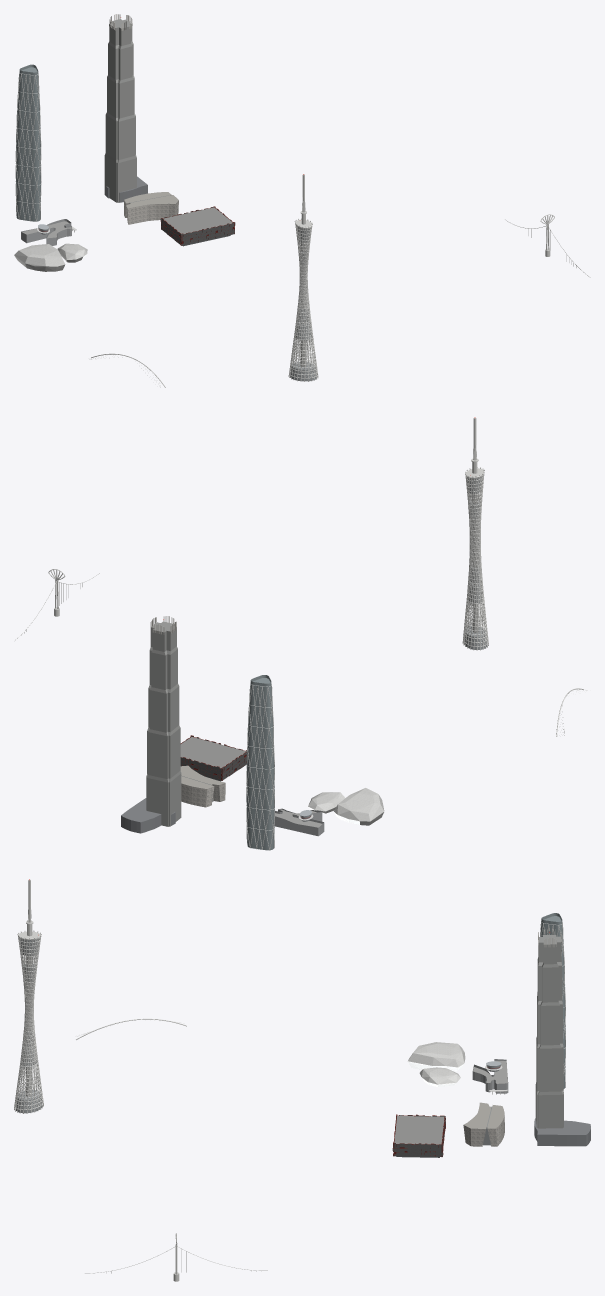
The model's file is landmarks.glb.
The picture shows the model from 3 angles, top to bottom: view 1: azimuth 30°, elevation 25°; view 2: azimuth 150°, elevation 25°; view 3: azimuth 270°, elevation 25°; orthographic projection. The views are drawn at different scales.
Parts seen in each view (by area): view 1: Landmark | East Tower (CTF), Landmark | West Tower (IFC) glass, Landmark | Canton Tower lattice + mast, Landmark | Guangdong Museum treasure box, Landmark | West Tower (IFC) diagrid, Landmark | Guangzhou Library wings, Landmark | Opera House grand theatre, Landmark | Canton Tower enclosed zones, Landmark | Children's Palace body; view 2: Landmark | East Tower (CTF), Landmark | West Tower (IFC) glass, Landmark | Canton Tower lattice + mast, Landmark | Guangdong Museum treasure box, Landmark | West Tower (IFC) diagrid, Landmark | Opera House grand theatre, Landmark | Guangzhou Library wings, Landmark | East Tower podium (K11), Landmark | Children's Palace body, Landmark | Canton Tower enclosed zones, Landmark | Opera House multi-function hall; view 3: Landmark | East Tower (CTF), Landmark | Canton Tower lattice + mast, Landmark | Guangdong Museum treasure box, Landmark | Guangzhou Library wings, Landmark | Opera House grand theatre, Landmark | East Tower podium (K11), Landmark | Canton Tower enclosed zones, Landmark | West Tower (IFC) glass, Landmark | Children's Palace body, Landmark | Opera House multi-function hall.
Part boxes in pixels (x1=…): Landmark | East Tower (CTF): x1=104, y1=19, x2=136, y2=202; Landmark | West Tower (IFC) glass: x1=16, y1=64, x2=40, y2=221; Landmark | Canton Tower lattice + mast: x1=288, y1=174, x2=318, y2=381; Landmark | Guangdong Museum treasure box: x1=160, y1=206, x2=235, y2=245; Landmark | West Tower (IFC) diagrid: x1=15, y1=71, x2=41, y2=221; Landmark | Guangzhou Library wings: x1=124, y1=192, x2=178, y2=224; Landmark | Opera House grand theatre: x1=14, y1=244, x2=65, y2=271; Landmark | Canton Tower enclosed zones: x1=290, y1=227, x2=316, y2=381; Landmark | Children's Palace body: x1=21, y1=219, x2=71, y2=245; Landmark | East Tower (CTF): x1=146, y1=621, x2=181, y2=826; Landmark | West Tower (IFC) glass: x1=246, y1=675, x2=274, y2=850; Landmark | Canton Tower lattice + mast: x1=462, y1=417, x2=488, y2=650; Landmark | Guangdong Museum treasure box: x1=180, y1=735, x2=246, y2=780; Landmark | West Tower (IFC) diagrid: x1=246, y1=683, x2=274, y2=850; Landmark | Opera House grand theatre: x1=334, y1=788, x2=384, y2=825; Landmark | Guangzhou Library wings: x1=180, y1=765, x2=225, y2=807; Landmark | East Tower podium (K11): x1=121, y1=798, x2=175, y2=833; Landmark | Children's Palace body: x1=274, y1=808, x2=324, y2=836; Landmark | Canton Tower enclosed zones: x1=464, y1=476, x2=486, y2=649; Landmark | Opera House multi-function hall: x1=308, y1=792, x2=345, y2=813; Landmark | East Tower (CTF): x1=535, y1=935, x2=563, y2=1128; Landmark | Canton Tower lattice + mast: x1=14, y1=879, x2=43, y2=1113; Landmark | Guangdong Museum treasure box: x1=392, y1=1114, x2=445, y2=1156; Landmark | Guangzhou Library wings: x1=463, y1=1102, x2=504, y2=1146; Landmark | Opera House grand theatre: x1=407, y1=1042, x2=465, y2=1071; Landmark | East Tower podium (K11): x1=534, y1=1118, x2=590, y2=1146; Landmark | Canton Tower enclosed zones: x1=16, y1=938, x2=41, y2=1113; Landmark | West Tower (IFC) glass: x1=540, y1=913, x2=565, y2=1088; Landmark | Children's Palace body: x1=472, y1=1059, x2=508, y2=1093; Landmark | Opera House multi-function hall: x1=419, y1=1067, x2=460, y2=1087.
Bounding box in the file's own units: 1444 × 609 × 1378.
Materials: 25 (5 with a texture image).
